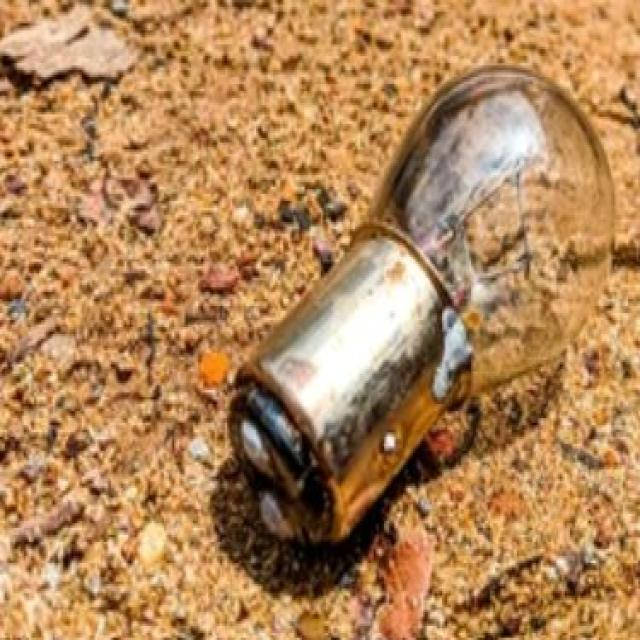electronic: (225, 61, 616, 549)
